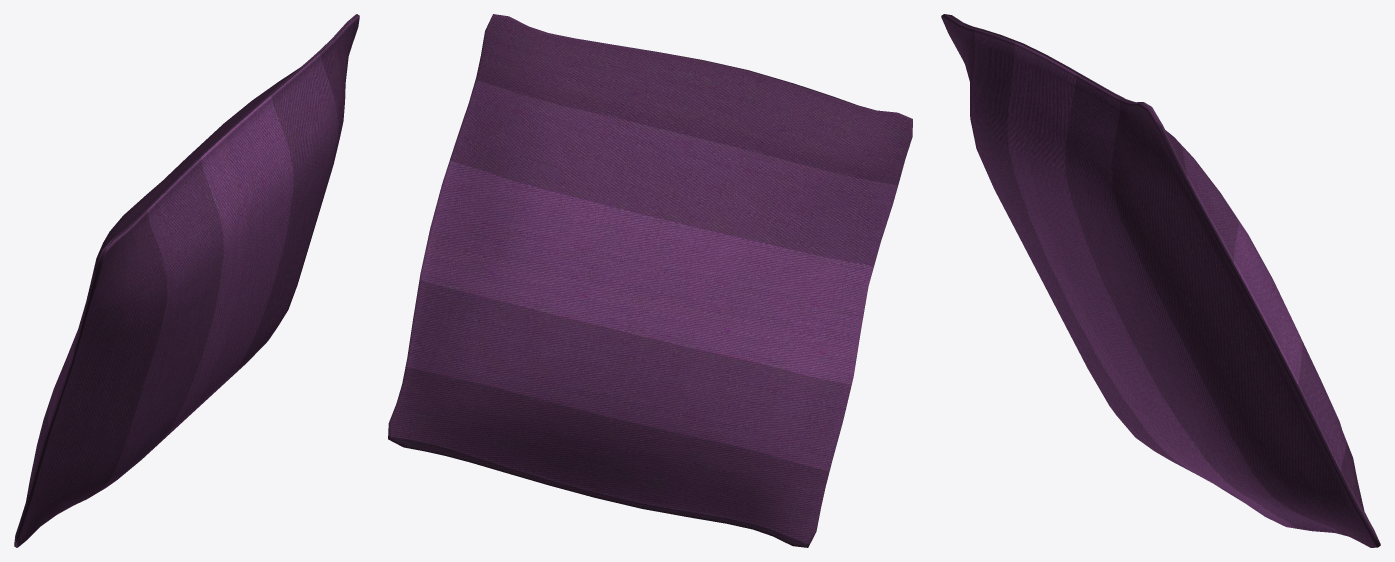
The model's file is cushion.glb.
3 renders of one model, left to right at view 1: azimuth 30°, elevation 25°; view 2: azimuth 150°, elevation 25°; view 3: azimuth 270°, elevation 25°, orthographic. The views are drawn at different scales.
Parts seen in each view (by area): view 1: Cushion1_0001; view 2: Cushion1_0001; view 3: Cushion1_0001.
Boxes of the visible parts, <box> form: Cushion1_0001: <box>14,14,359,547</box>; Cushion1_0001: <box>388,14,912,547</box>; Cushion1_0001: <box>941,14,1380,547</box>.
Size of the model in its own units: 0.3847 by 0.4702 by 0.3458.
Materials: 1 (1 with a texture image).
